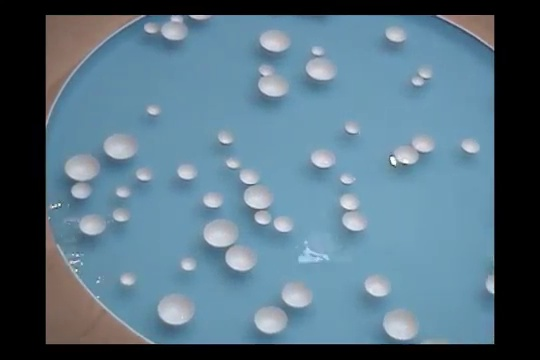bowl: (158, 293, 196, 326), (383, 308, 419, 339), (203, 218, 239, 247), (254, 305, 290, 334), (64, 153, 100, 181), (103, 132, 140, 159), (226, 244, 258, 272), (282, 280, 314, 308), (244, 184, 276, 210), (260, 29, 292, 54), (306, 57, 338, 80), (258, 74, 289, 97), (365, 274, 393, 297), (342, 210, 369, 233), (80, 214, 106, 237), (394, 144, 420, 166), (161, 21, 188, 42), (310, 149, 336, 169), (411, 135, 436, 153), (385, 25, 409, 43), (177, 163, 199, 181), (70, 182, 93, 199), (202, 191, 224, 208), (340, 193, 362, 210), (274, 216, 294, 234), (240, 168, 260, 185), (461, 138, 480, 154), (344, 119, 361, 136), (113, 207, 131, 223), (180, 256, 198, 272), (254, 210, 272, 226), (120, 271, 137, 287), (136, 167, 153, 182), (259, 63, 277, 77), (218, 130, 235, 144), (226, 156, 243, 170), (418, 66, 435, 80), (339, 173, 357, 186), (144, 21, 160, 35), (116, 186, 133, 199), (147, 104, 162, 118), (410, 76, 427, 88), (191, 13, 213, 22), (486, 273, 494, 295), (311, 45, 326, 56), (421, 339, 448, 343)
